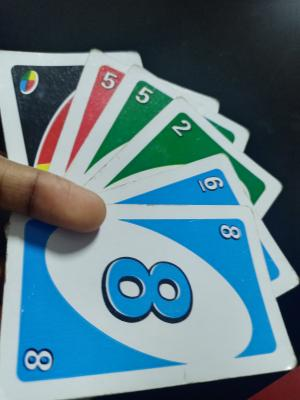blue: (23, 223, 266, 363), (153, 183, 231, 205)
green: (131, 135, 206, 171)
num_2: (170, 118, 191, 140)
num_5: (95, 64, 121, 96), (134, 80, 154, 111)
num_6: (197, 174, 227, 195)
num_8: (21, 345, 61, 381), (209, 219, 244, 244)
wild: (16, 65, 49, 101)
